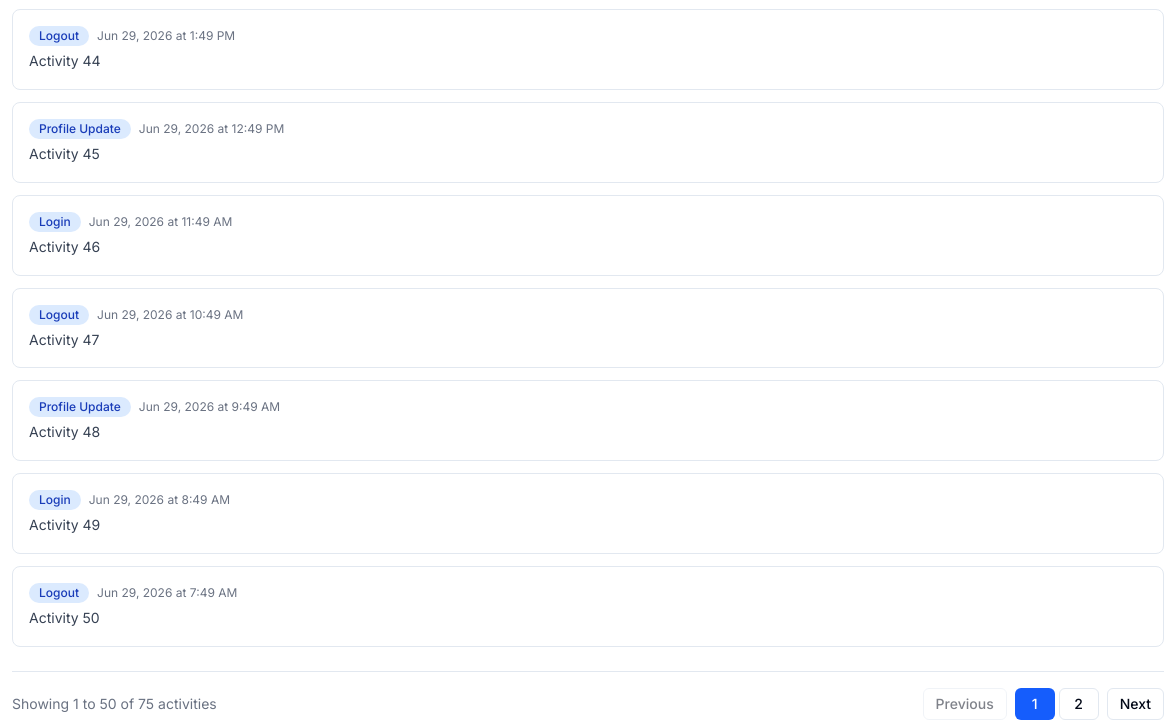
Test case: ActivityLog Component › Pagination (Req 9.3) › should navigate to next page
This screenshot has width=1176, height=720.
(page scrolled)
Note: Click next button
Click the button "Next".
click(1135, 704)  # box [1107,688,1164,719]
(page scrolled)
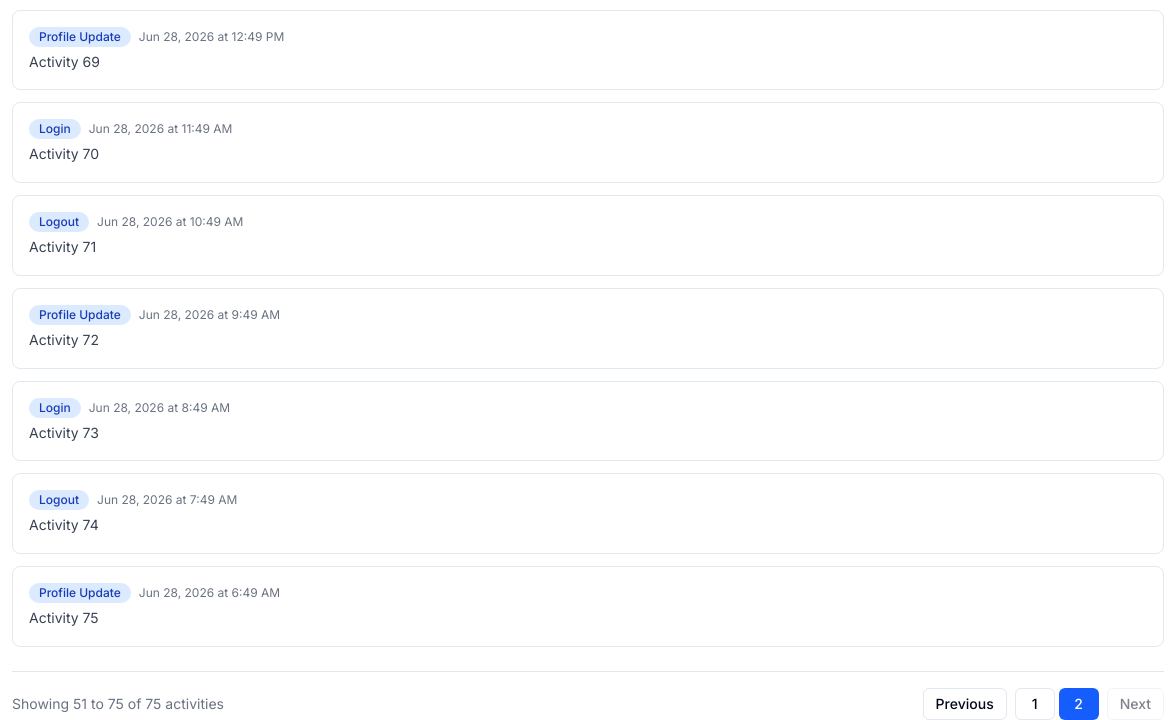
Expected: the text "Showing 51 to 75 of 75 activities" is shown, [12,694,224,714]
